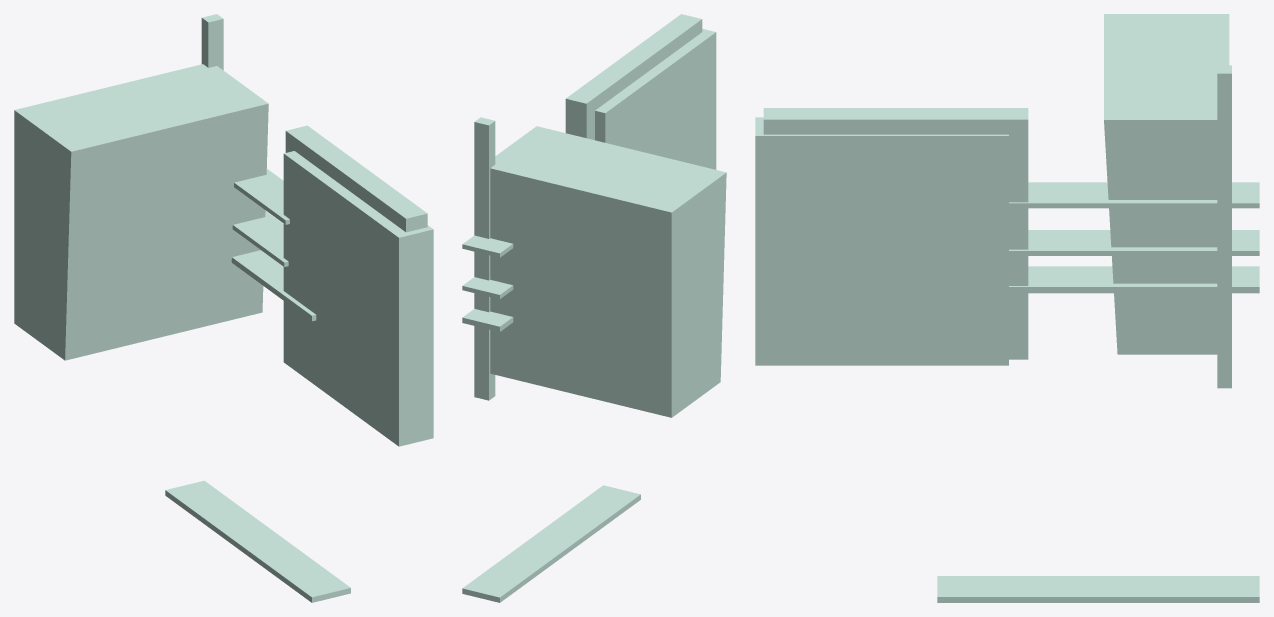
The picture shows the model from 3 angles, left to right: view 1: azimuth 30°, elevation 25°; view 2: azimuth 150°, elevation 25°; view 3: azimuth 270°, elevation 25°; orthographic projection. The views are drawn at different scales.
Visible parts, largest first — view 1: Renderer Node; view 2: Renderer Node; view 3: Renderer Node.
Part boxes in pixels (x1,y1,x2,y2): Renderer Node: [14, 14, 433, 602]; Renderer Node: [462, 14, 726, 602]; Renderer Node: [755, 14, 1259, 602].
Bounding box in the file's own units: 0.7344 × 1.66 × 1.43.
